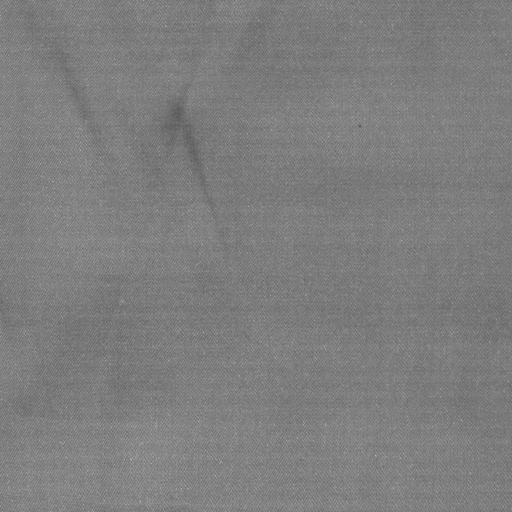defect: (132, 91, 221, 212), (54, 53, 100, 126), (353, 120, 366, 132)
